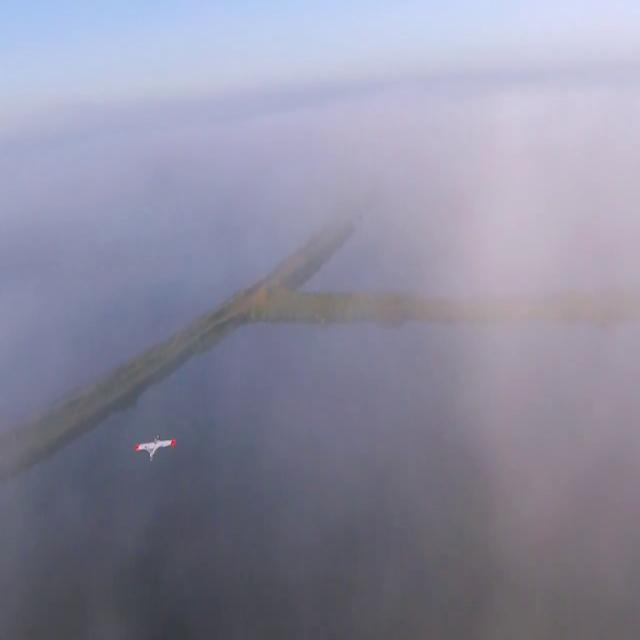iha: (134, 431, 177, 466)
